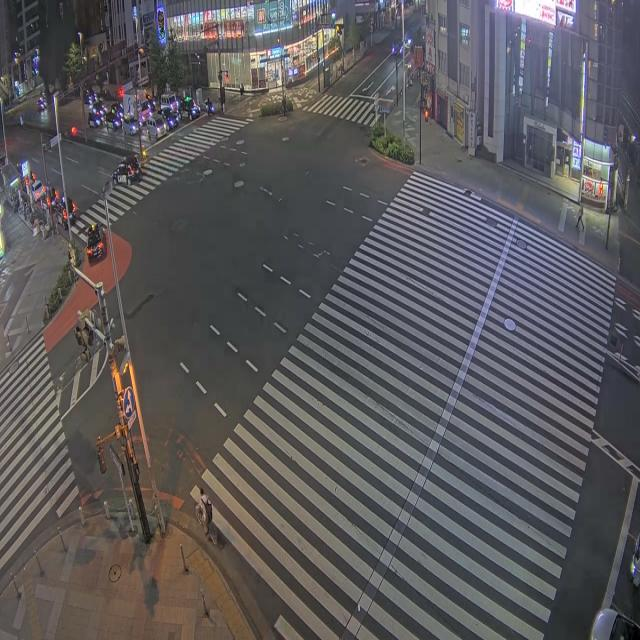car: (591, 609, 639, 639), (53, 192, 77, 227), (112, 157, 141, 185), (86, 224, 106, 261), (146, 115, 168, 140), (178, 96, 199, 119), (158, 107, 179, 129), (122, 115, 140, 135), (90, 99, 108, 117), (105, 112, 121, 131), (33, 181, 46, 201), (88, 112, 103, 127), (109, 102, 123, 118), (145, 92, 156, 109), (392, 40, 404, 55), (37, 96, 46, 112)
motorcycle: (631, 536, 639, 588), (204, 101, 214, 115)
truck: (123, 89, 152, 121)
van: (160, 93, 179, 112)
